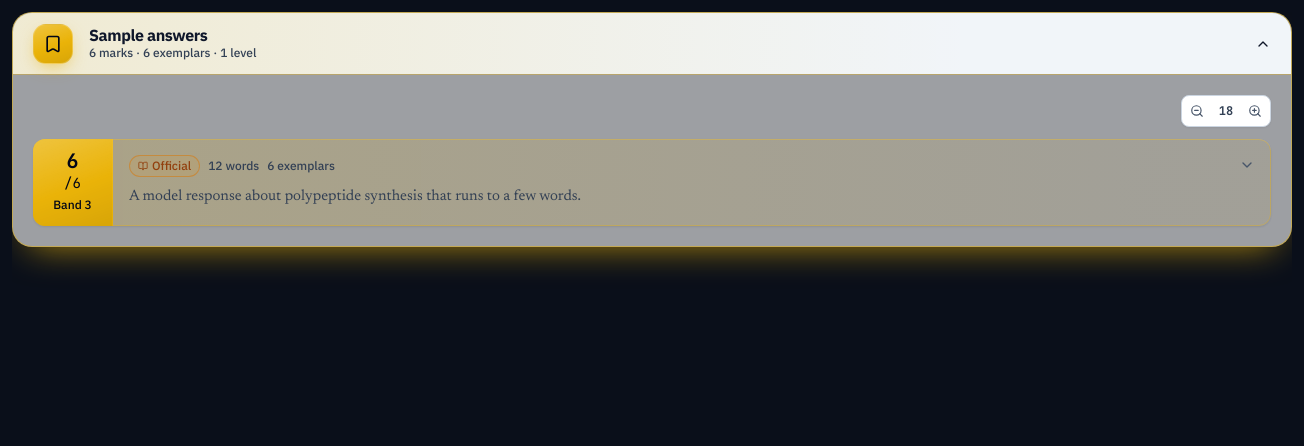
Scenario: many exemplars at one mark › offers a named exemplar per variant instead of blind arrows
Click the button named "6/6 Marks": [180, 166] box [113,139,1271,226]
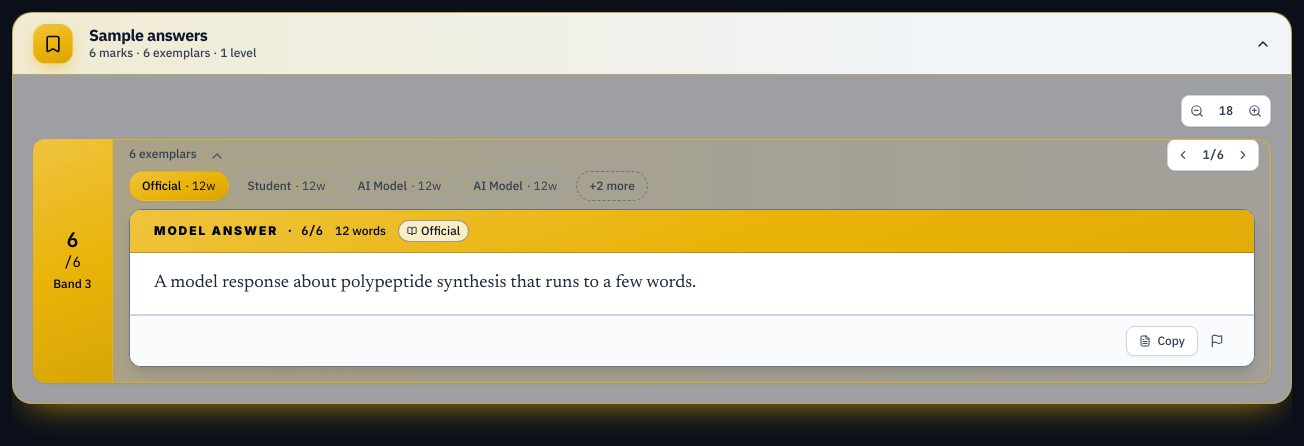
Expected: the tab "Official · 12w" is shown, [129,171,228,201]
Expected: the tab "Student · 12w" is shown, [234,171,338,201]
